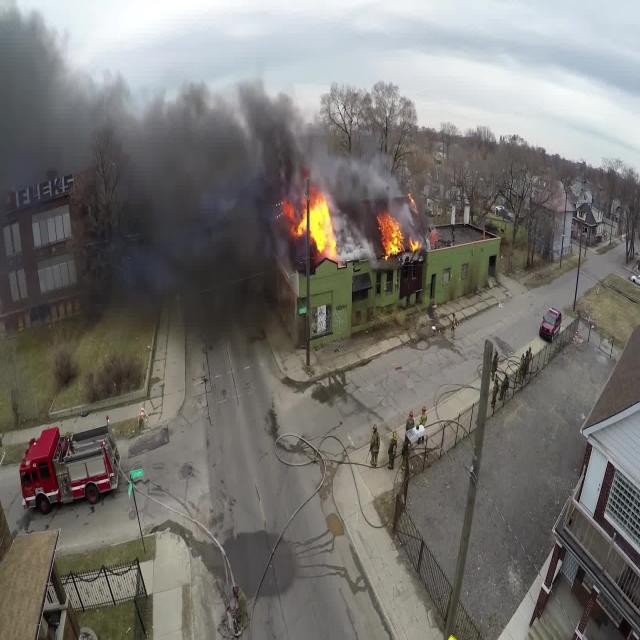Fire: (285, 172, 425, 278)
Smoke: (0, 65, 421, 302)
